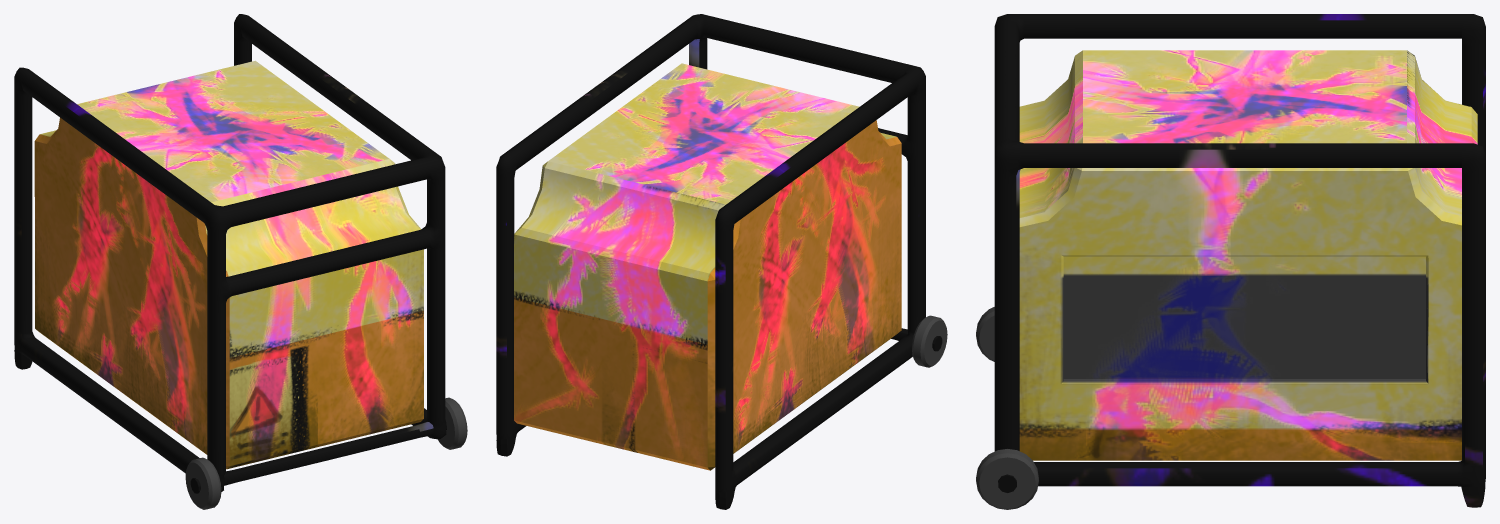
Rendered from GeneratorTexture_AnnieZhang_v01.fbx.
3 views of the same model, side by side, from view 1: azimuth 30°, elevation 25°; view 2: azimuth 150°, elevation 25°; view 3: azimuth 270°, elevation 25° (orthographic). The views are drawn at different scales.
Visible parts, largest first — view 1: polySurface4.001; view 2: polySurface4.001; view 3: polySurface4.001.
Boxes of the visible parts, left/top/right/bottom form: polySurface4.001: left=14, top=14, right=467, bottom=509; polySurface4.001: left=496, top=14, right=947, bottom=509; polySurface4.001: left=976, top=14, right=1485, bottom=509.
Size of the model in its own units: 3.49 by 3.79 by 4.85.
1 material, 1 textured.
